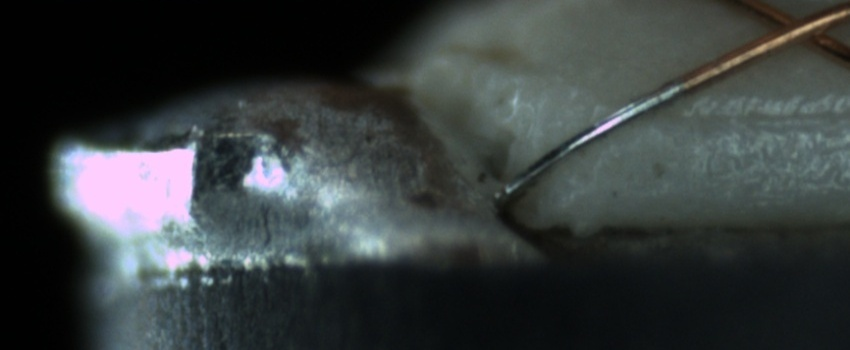CL: (747, 0, 847, 57)
DL: (650, 82, 849, 146)
TS: (492, 81, 688, 203)
